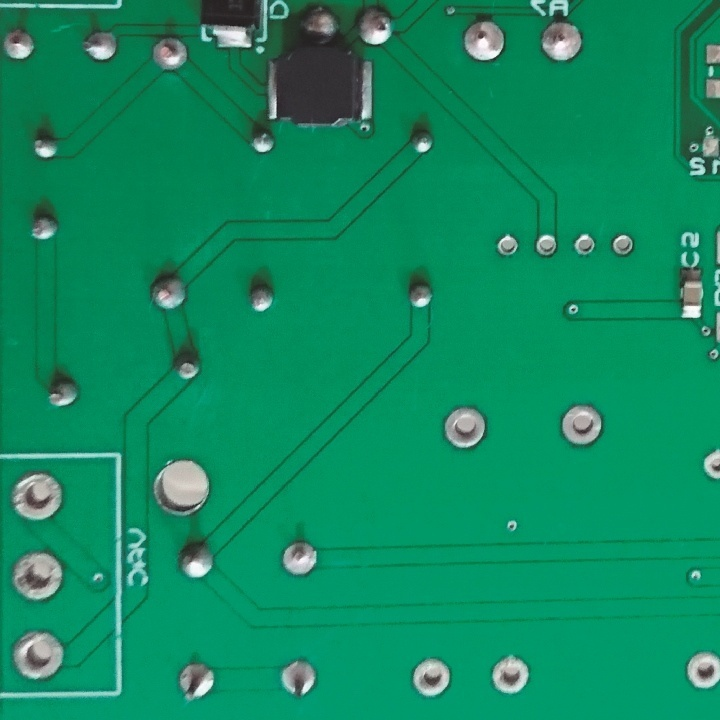F: (10, 548, 69, 606), (9, 626, 67, 683), (10, 469, 66, 528), (457, 15, 508, 64), (439, 404, 488, 452), (535, 20, 585, 67), (558, 400, 603, 451), (410, 655, 454, 700), (174, 660, 218, 705), (147, 35, 196, 75), (488, 655, 532, 699), (280, 655, 318, 703), (686, 645, 719, 694), (279, 540, 319, 580), (699, 446, 720, 483), (572, 230, 597, 261), (608, 228, 634, 257), (533, 233, 561, 259), (496, 233, 521, 261)
